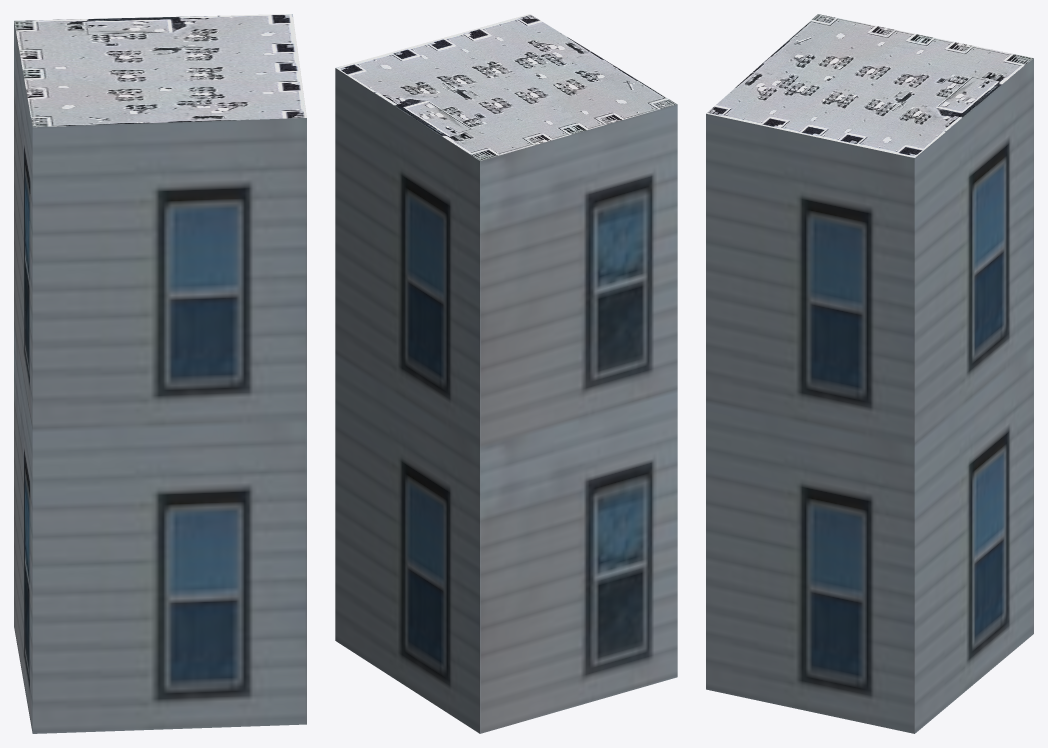
The model's file is ResTex__4067.fbx.
The picture shows the model from 3 angles, left to right: view 1: azimuth 30°, elevation 25°; view 2: azimuth 150°, elevation 25°; view 3: azimuth 270°, elevation 25°; orthographic projection. The views are drawn at different scales.
Visible parts, largest first — view 1: CityEngineMaterial_18_m, CityEngineMaterial_m; view 2: CityEngineMaterial_18_m, CityEngineMaterial_m; view 3: CityEngineMaterial_18_m, CityEngineMaterial_m.
Part boxes in pixels (bbox=[...]): CityEngineMaterial_18_m: bbox=[14, 21, 306, 733]; CityEngineMaterial_m: bbox=[14, 14, 306, 127]; CityEngineMaterial_18_m: bbox=[335, 68, 677, 733]; CityEngineMaterial_m: bbox=[336, 14, 676, 160]; CityEngineMaterial_18_m: bbox=[706, 58, 1033, 733]; CityEngineMaterial_m: bbox=[706, 14, 1033, 157].
Bounding box in the file's own units: 3.22 × 6 × 3.1.
2 materials, 2 textured.
